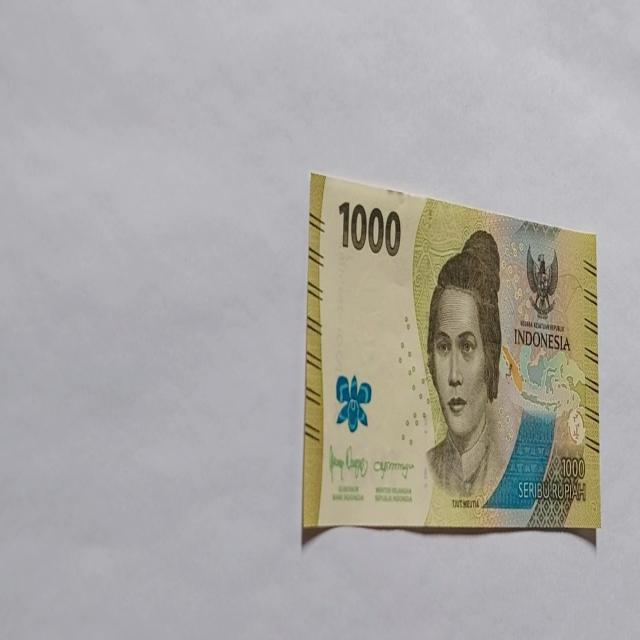seribu rupiah kertas: (302, 170, 600, 540)
